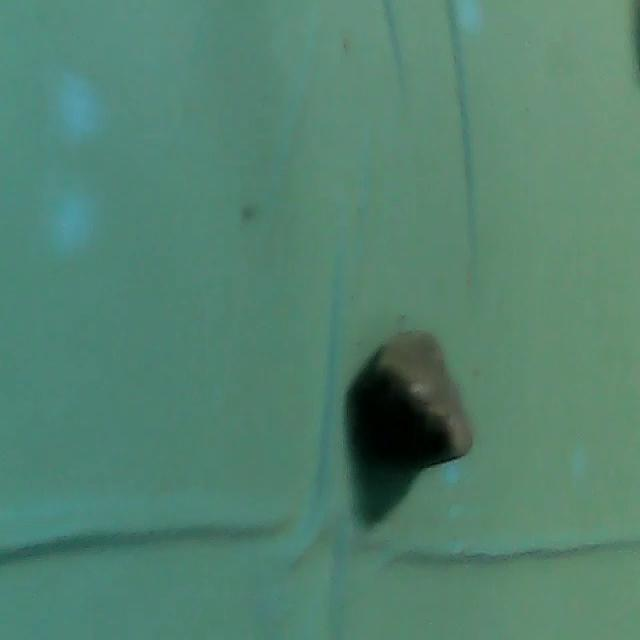rock: (347, 318, 477, 491)
